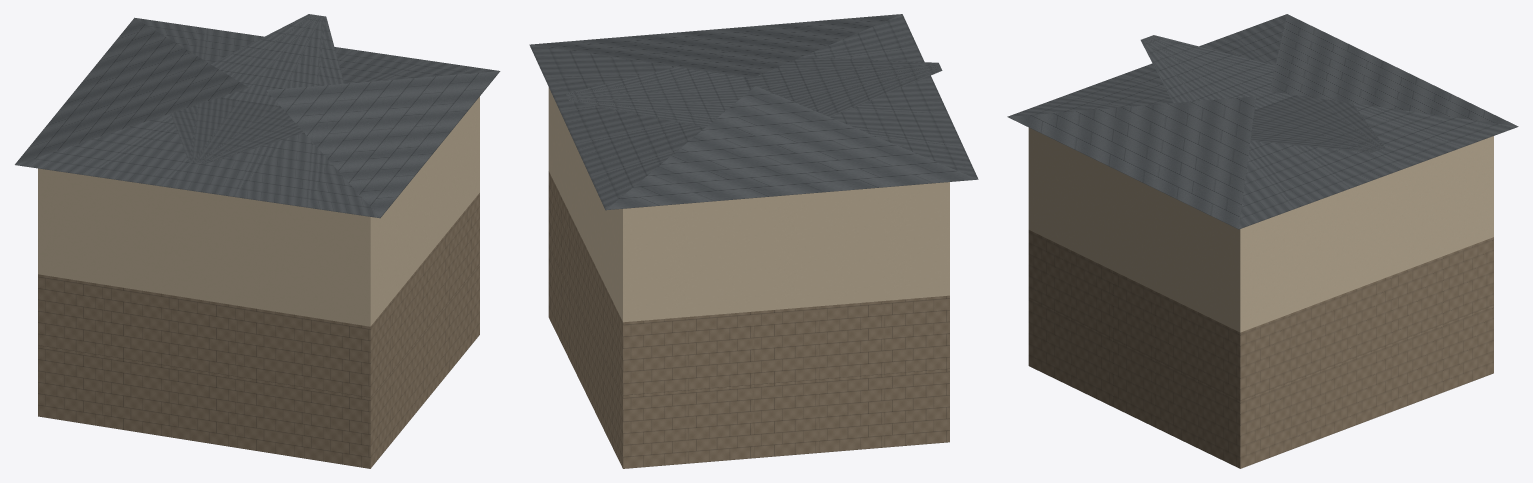
The model's file is bld_c5_10_474.gltf.
3 renders of one model, left to right at view 1: azimuth 30°, elevation 25°; view 2: azimuth 150°, elevation 25°; view 3: azimuth 270°, elevation 25°, orthographic. The views are drawn at different scales.
Parts seen in each view (by area): view 1: bld_c5_10_474; view 2: bld_c5_10_474; view 3: bld_c5_10_474.
Boxes of the visible parts, bbox=[...] form: bld_c5_10_474: bbox=[15, 14, 500, 468]; bld_c5_10_474: bbox=[529, 14, 978, 468]; bld_c5_10_474: bbox=[1007, 14, 1518, 468].
Bounding box in the file's own units: 16.56 × 9.9 × 16.61.
Materials: 3 (3 with a texture image).
